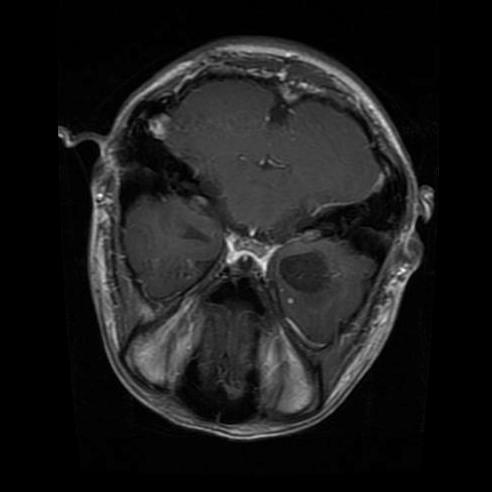Tumour-Glioma: (283, 238, 323, 307)
